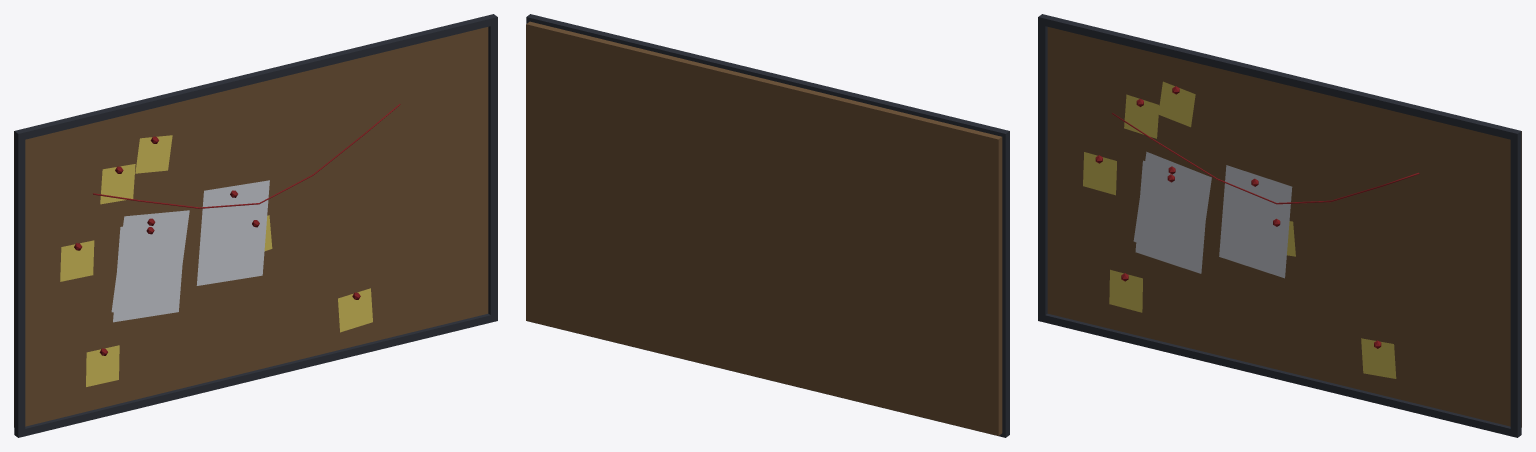
The model's file is Deco_CorkBoard.glb.
3 renders of one model, left to right at view 1: azimuth 30°, elevation 25°; view 2: azimuth 150°, elevation 25°; view 3: azimuth 330°, elevation 25°, orthographic.
Parts seen in each view (by area): view 1: Deco_CorkBoard; view 2: Deco_CorkBoard; view 3: Deco_CorkBoard.
Part boxes in pixels (x1=…): Deco_CorkBoard: x1=14, y1=14, x2=497, y2=437; Deco_CorkBoard: x1=526, y1=14, x2=1009, y2=437; Deco_CorkBoard: x1=1038, y1=14, x2=1521, y2=437.
Bounding box in the file's own units: 1.01 × 0.615 × 0.0345.
